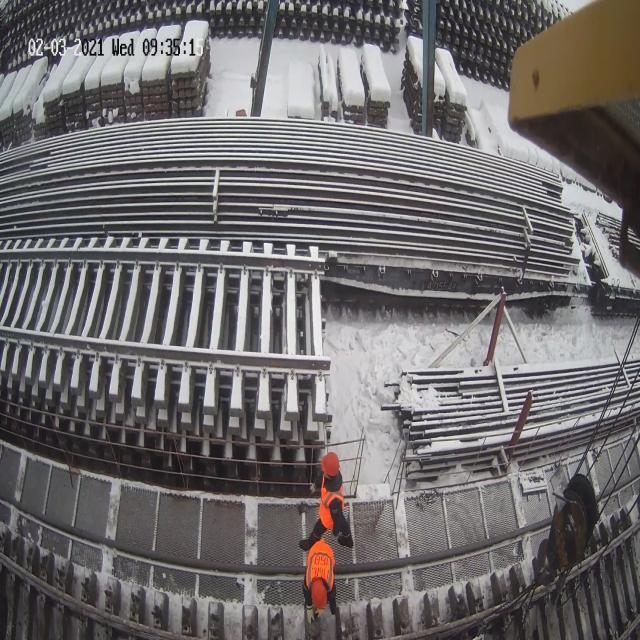Helmet: (321, 452, 340, 478)
Person: (298, 451, 354, 552), (302, 536, 337, 623)
